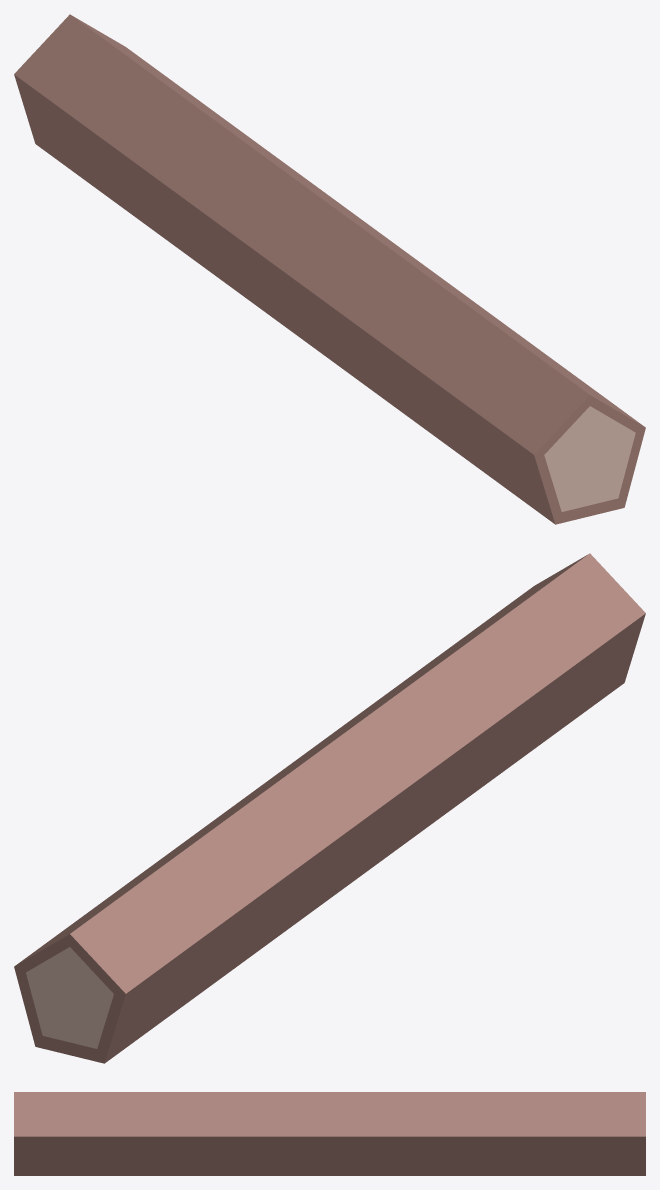
Rendered from log_variation.fbx.
3 renders of one model, top to bottom at view 1: azimuth 30°, elevation 25°; view 2: azimuth 150°, elevation 25°; view 3: azimuth 270°, elevation 25°, orthographic. The views are drawn at different scales.
Visible parts, largest first — view 1: pasted__pCylinder29; view 2: pasted__pCylinder29; view 3: pasted__pCylinder29.
Part boxes in pixels (bbox=[...]): pasted__pCylinder29: bbox=[14, 14, 645, 524]; pasted__pCylinder29: bbox=[14, 553, 645, 1063]; pasted__pCylinder29: bbox=[14, 1092, 645, 1175].
Bounding box in the file's own units: 1.56 × 1.62 × 12.57.
